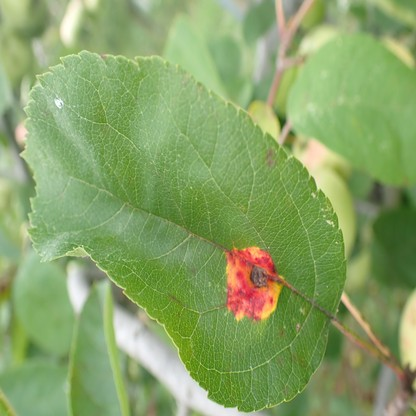rust: (224, 247, 285, 318)
